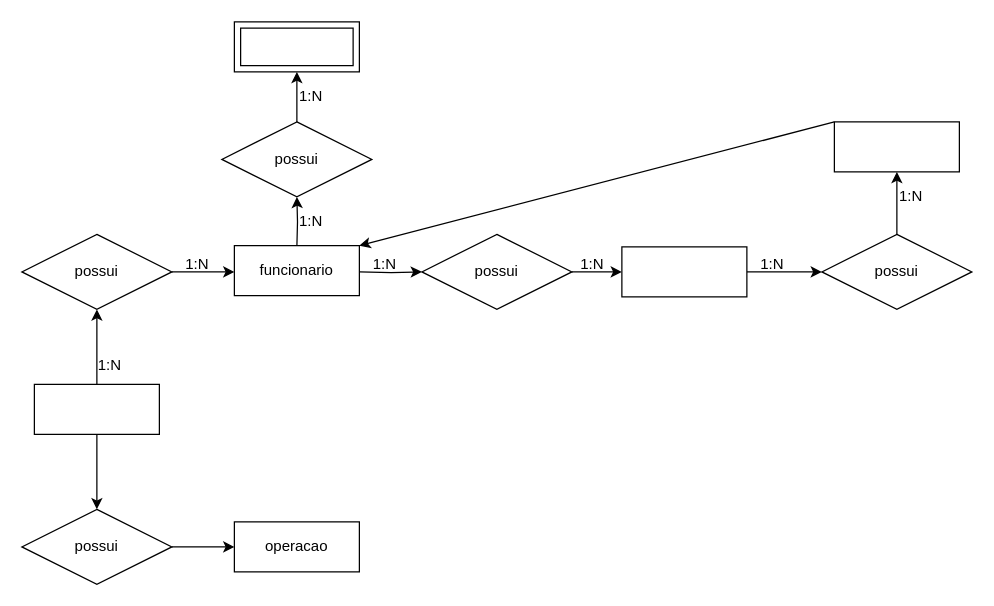
Some shapes in this 994 by 606 pixel diagram are drawn without their labels. Each missing label, with the centre of its shape:
"cargos" goes at (x=684, y=271).
"Empresa" goes at (x=96, y=408).
"locais de trabalho" goes at (x=296, y=46).
"salario" goes at (x=896, y=146).
